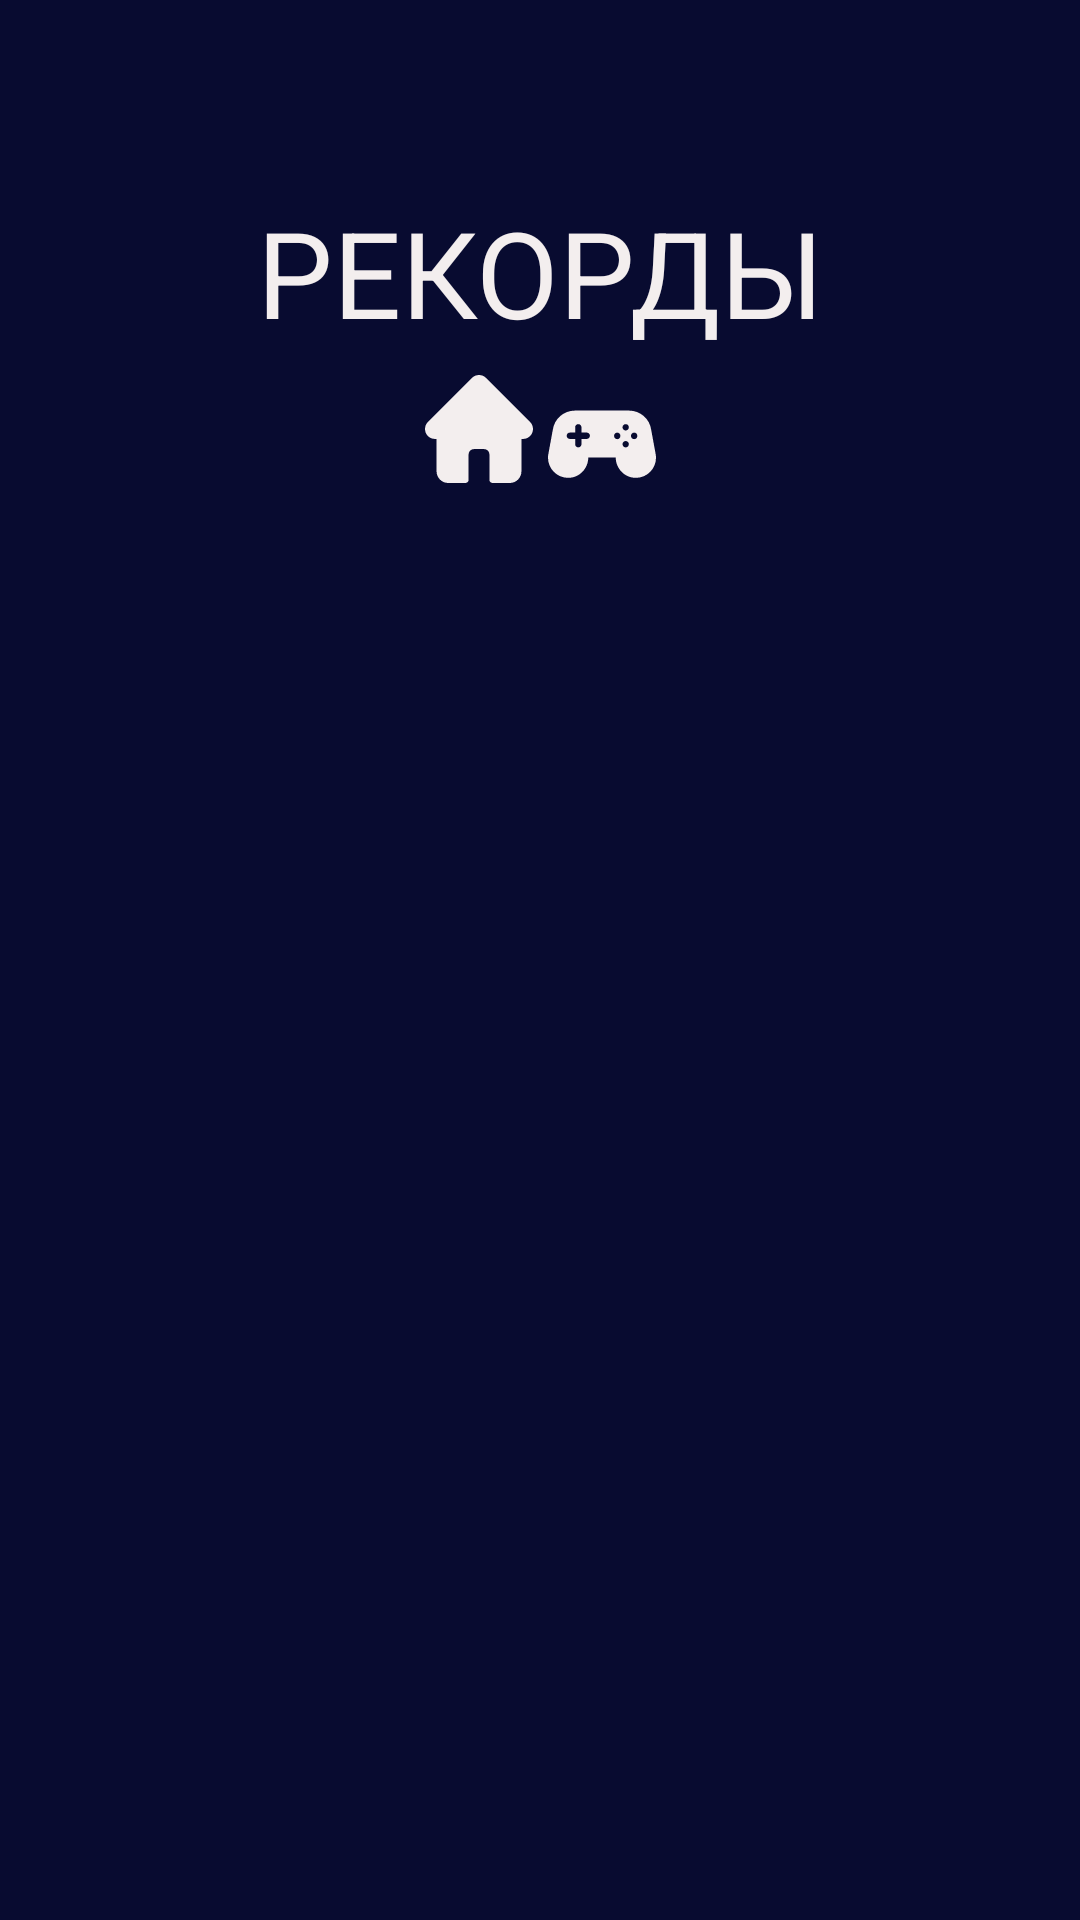

Point at icon controls on the screen. Image size 1080*1920, points as point (x, y).
home: point (479, 429)
play game: point (602, 444)
